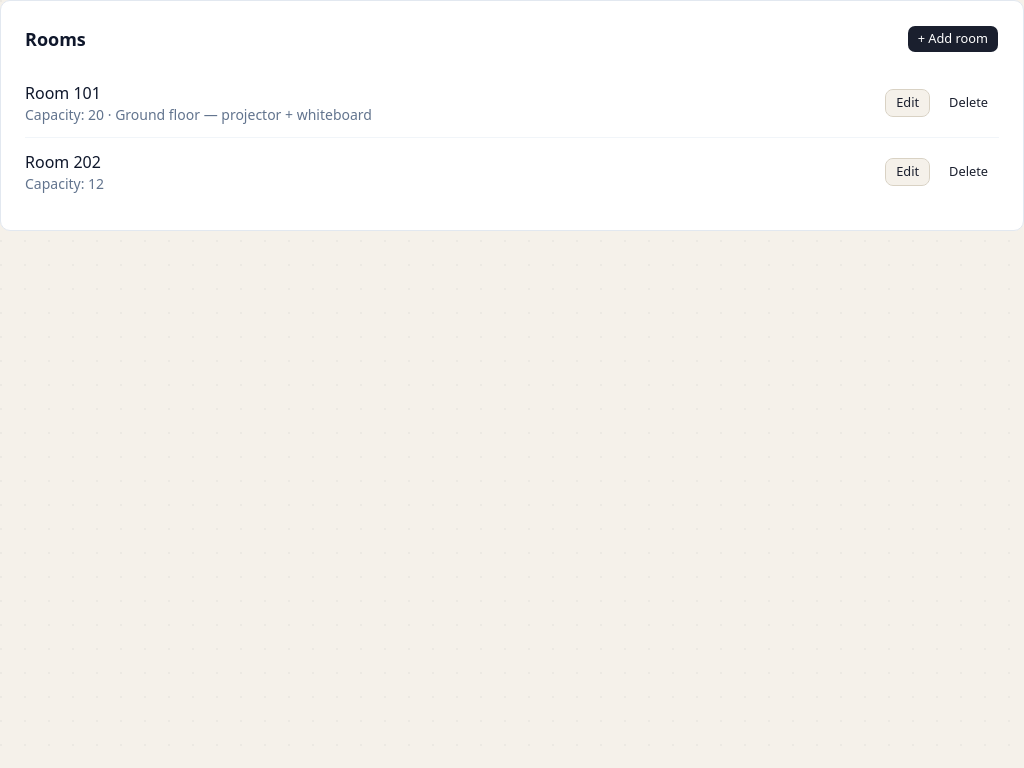
Test: RoomsTab — AC5 CRUD via shadcn Dialog › Add room button opens Dialog with name/description/capacity
Expected: the panel with test id "settings-tabpanel-rooms" is shown, x1=0 y1=0 x2=1023 y2=231
Click the button "+ Add room" at (953, 39), box x1=907 y1=25 x2=999 y2=53
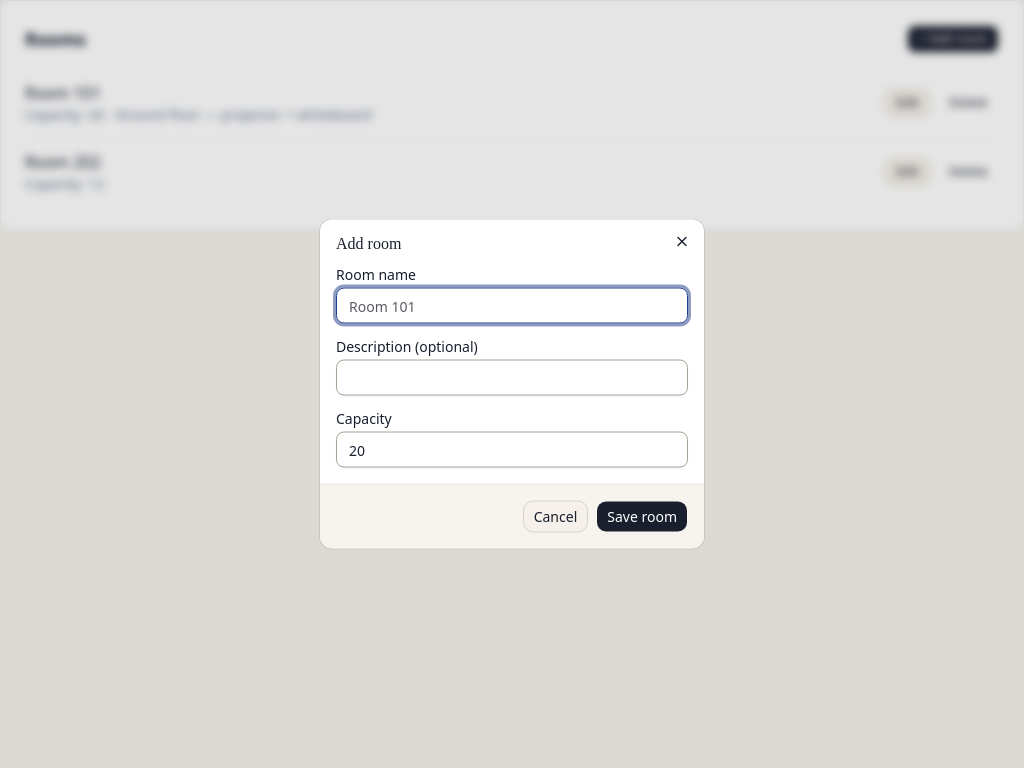
Expected: the field labelled "Room name" is shown, x1=336 y1=288 x2=688 y2=324
Expected: the field labelled "Description (optional)" is shown, x1=336 y1=360 x2=688 y2=396
Expected: the number field labelled "Capacity" is shown, x1=336 y1=432 x2=688 y2=468
